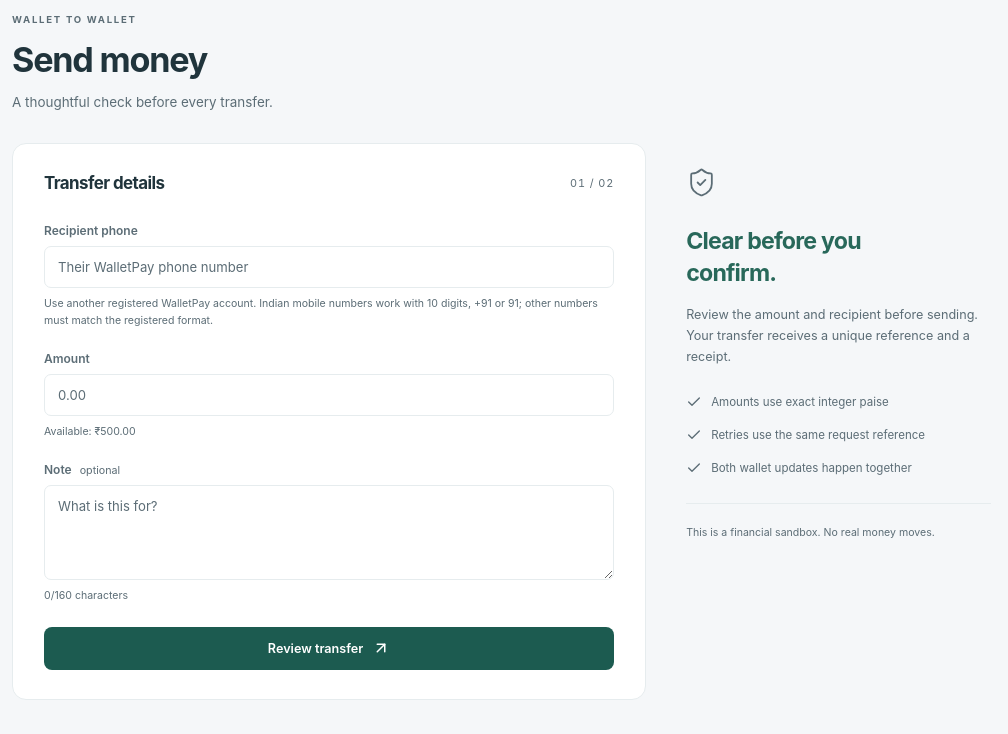
Test: transfer confirmation › returns to editable details without submitting
Step 1. Type "9876543210" into the field labelled "Recipient phone" → (329, 267), box [44,246,614,288]
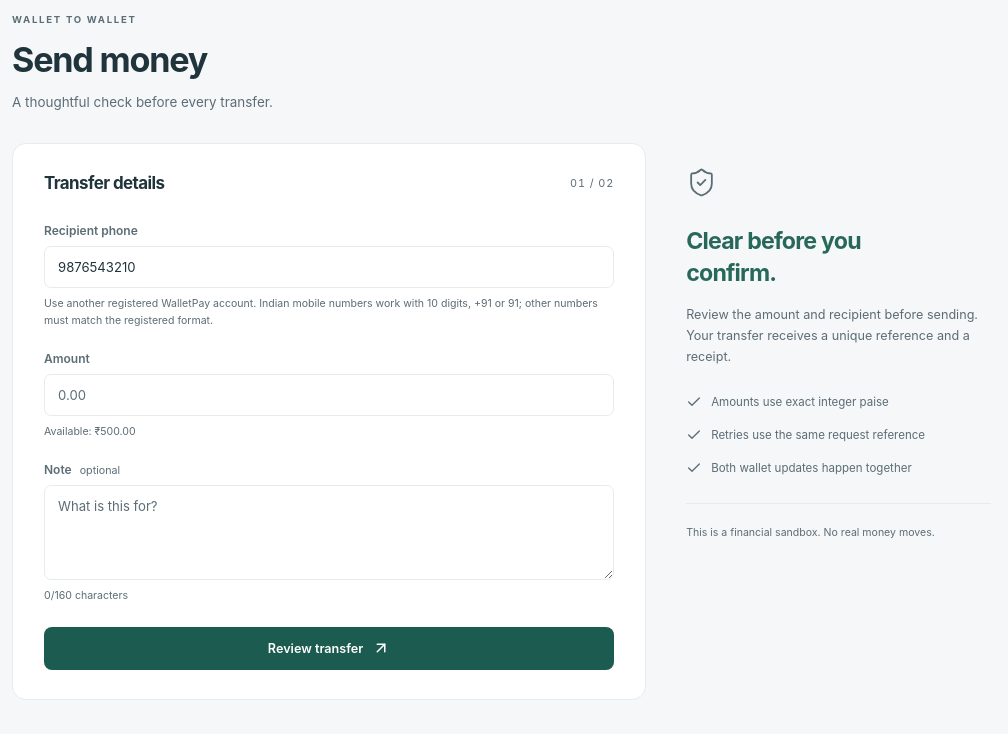
Step 2. Type "1.00" into the field labelled "Amount" → (329, 395), box [44,374,614,416]
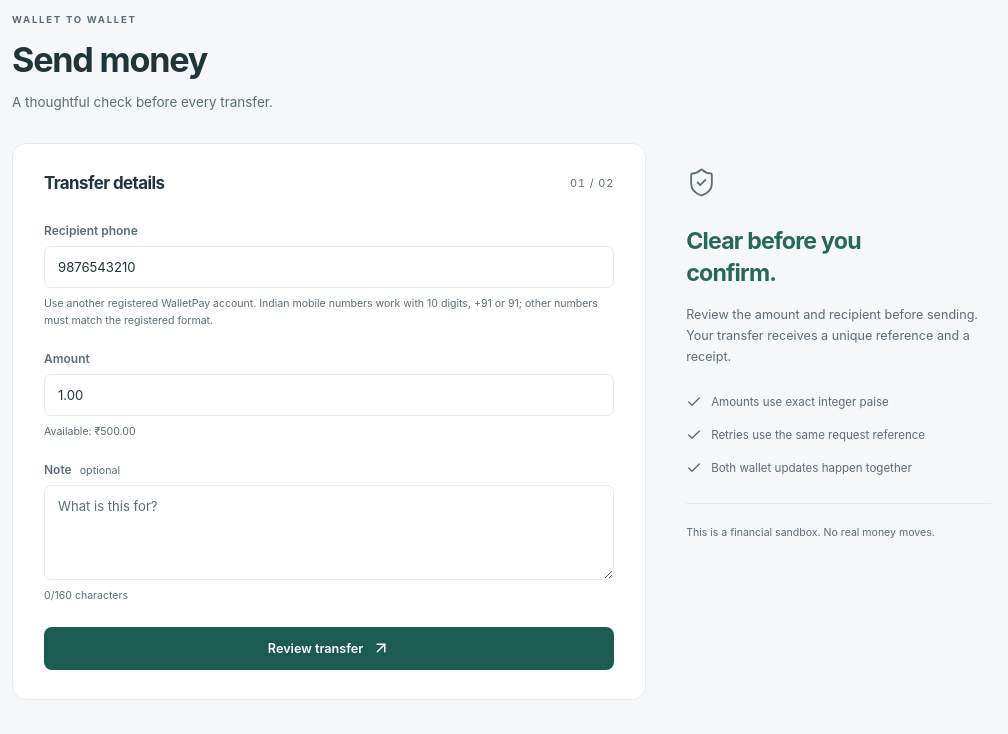
Step 3. Click the button "Review transfer" → (329, 648), box [44,627,614,670]
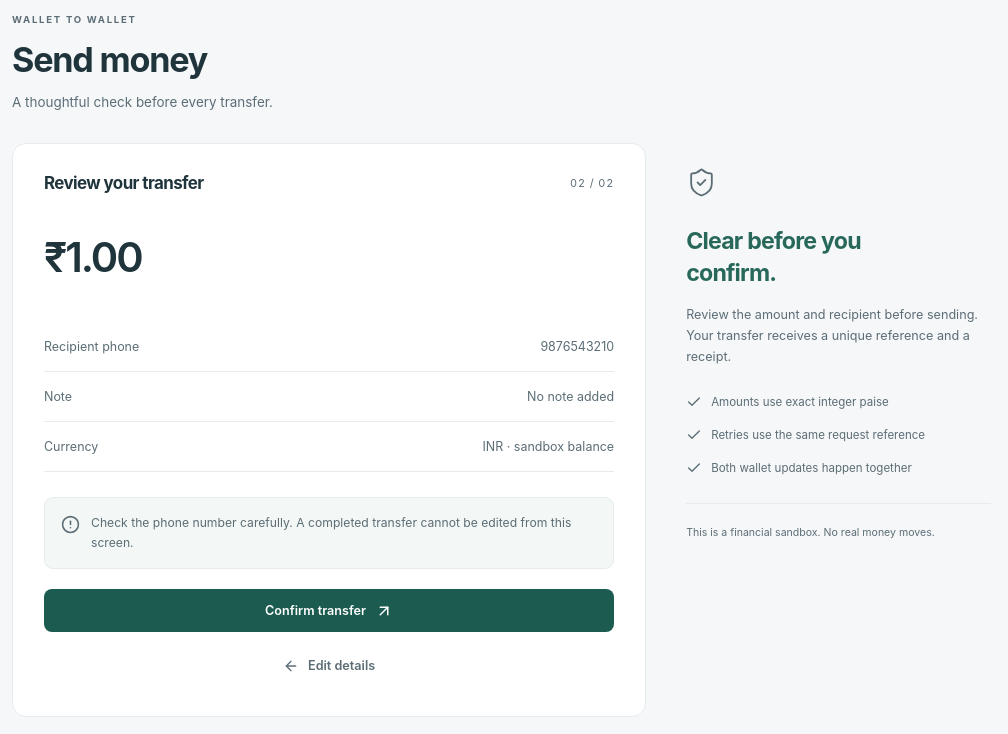
Step 4. Click the button "Edit details" → (329, 666), box [263,644,395,687]
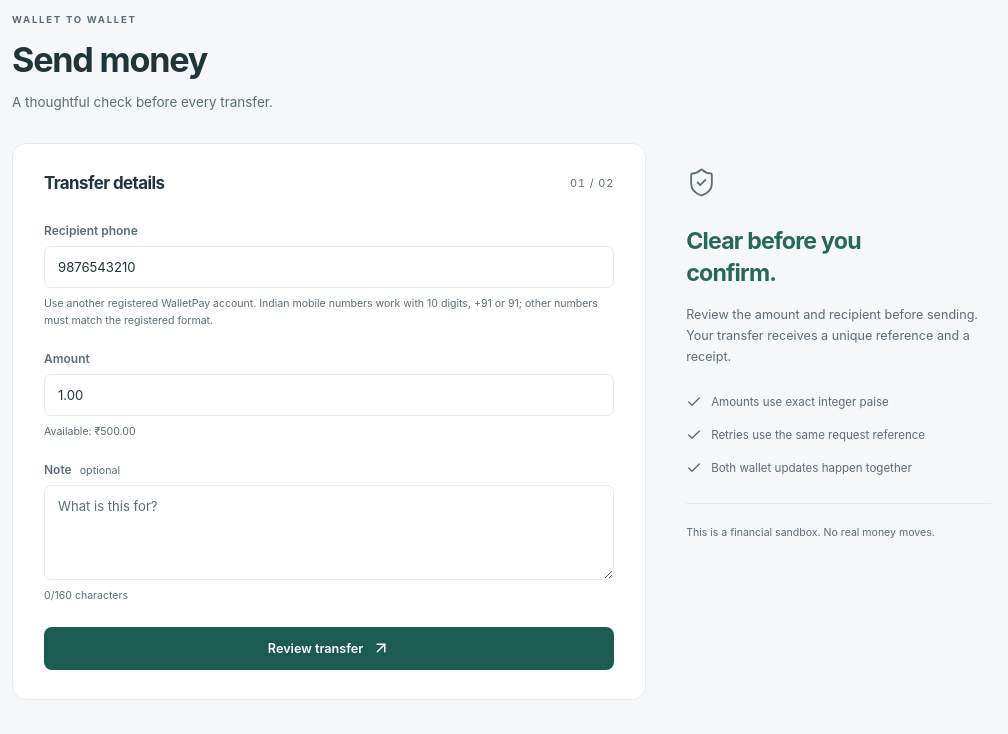
Now the field labelled "Amount" holds "1.00", box [44,374,614,416]
